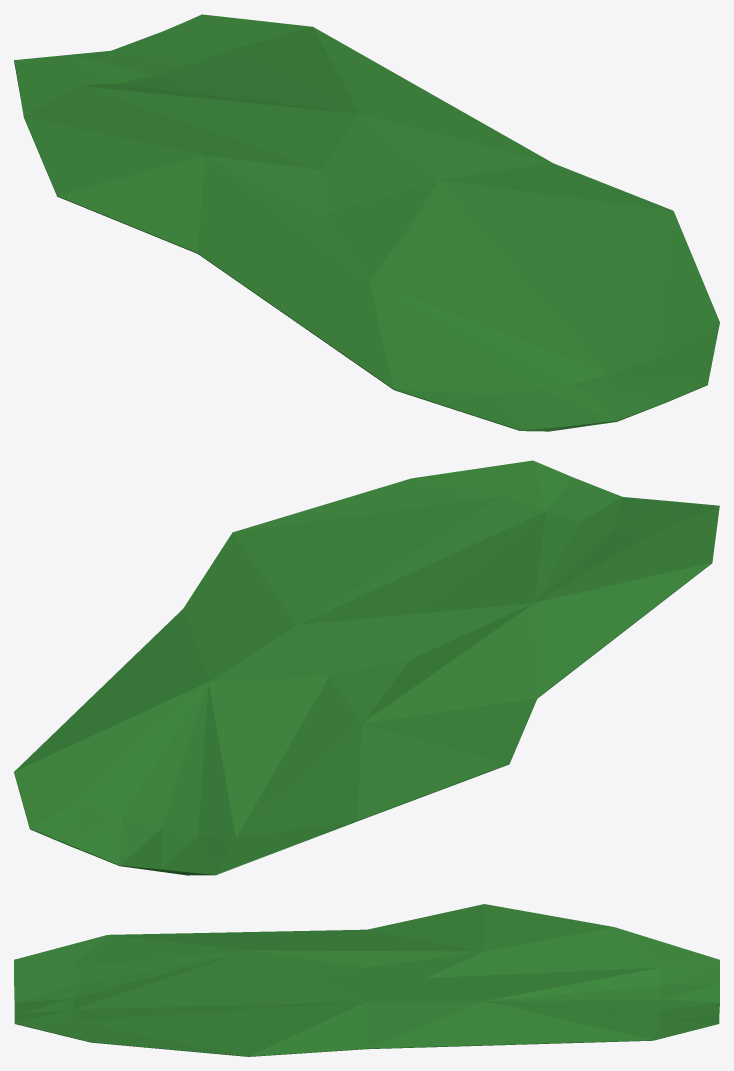
The model's file is Gras_laengs_Mesh.fbx.
3 views of the same model, one above another, from view 1: azimuth 30°, elevation 25°; view 2: azimuth 150°, elevation 25°; view 3: azimuth 270°, elevation 25° (orthographic). The views are drawn at different scales.
Parts seen in each view (by area): view 1: Gras_laengs; view 2: Gras_laengs; view 3: Gras_laengs.
Part boxes in pixels (left/top/right/bottom): Gras_laengs: left=14, top=14, right=719, bottom=431; Gras_laengs: left=14, top=460, right=719, bottom=875; Gras_laengs: left=14, top=904, right=719, bottom=1056.
Bounding box in the file's own units: 64.38 × 5.78 × 126.
